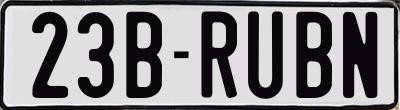2: (30, 10, 69, 102)
3: (77, 11, 115, 100)
B: (296, 12, 338, 100), (124, 9, 165, 98)
N: (342, 10, 380, 101)
R: (200, 8, 238, 98)
U: (248, 11, 288, 104)
